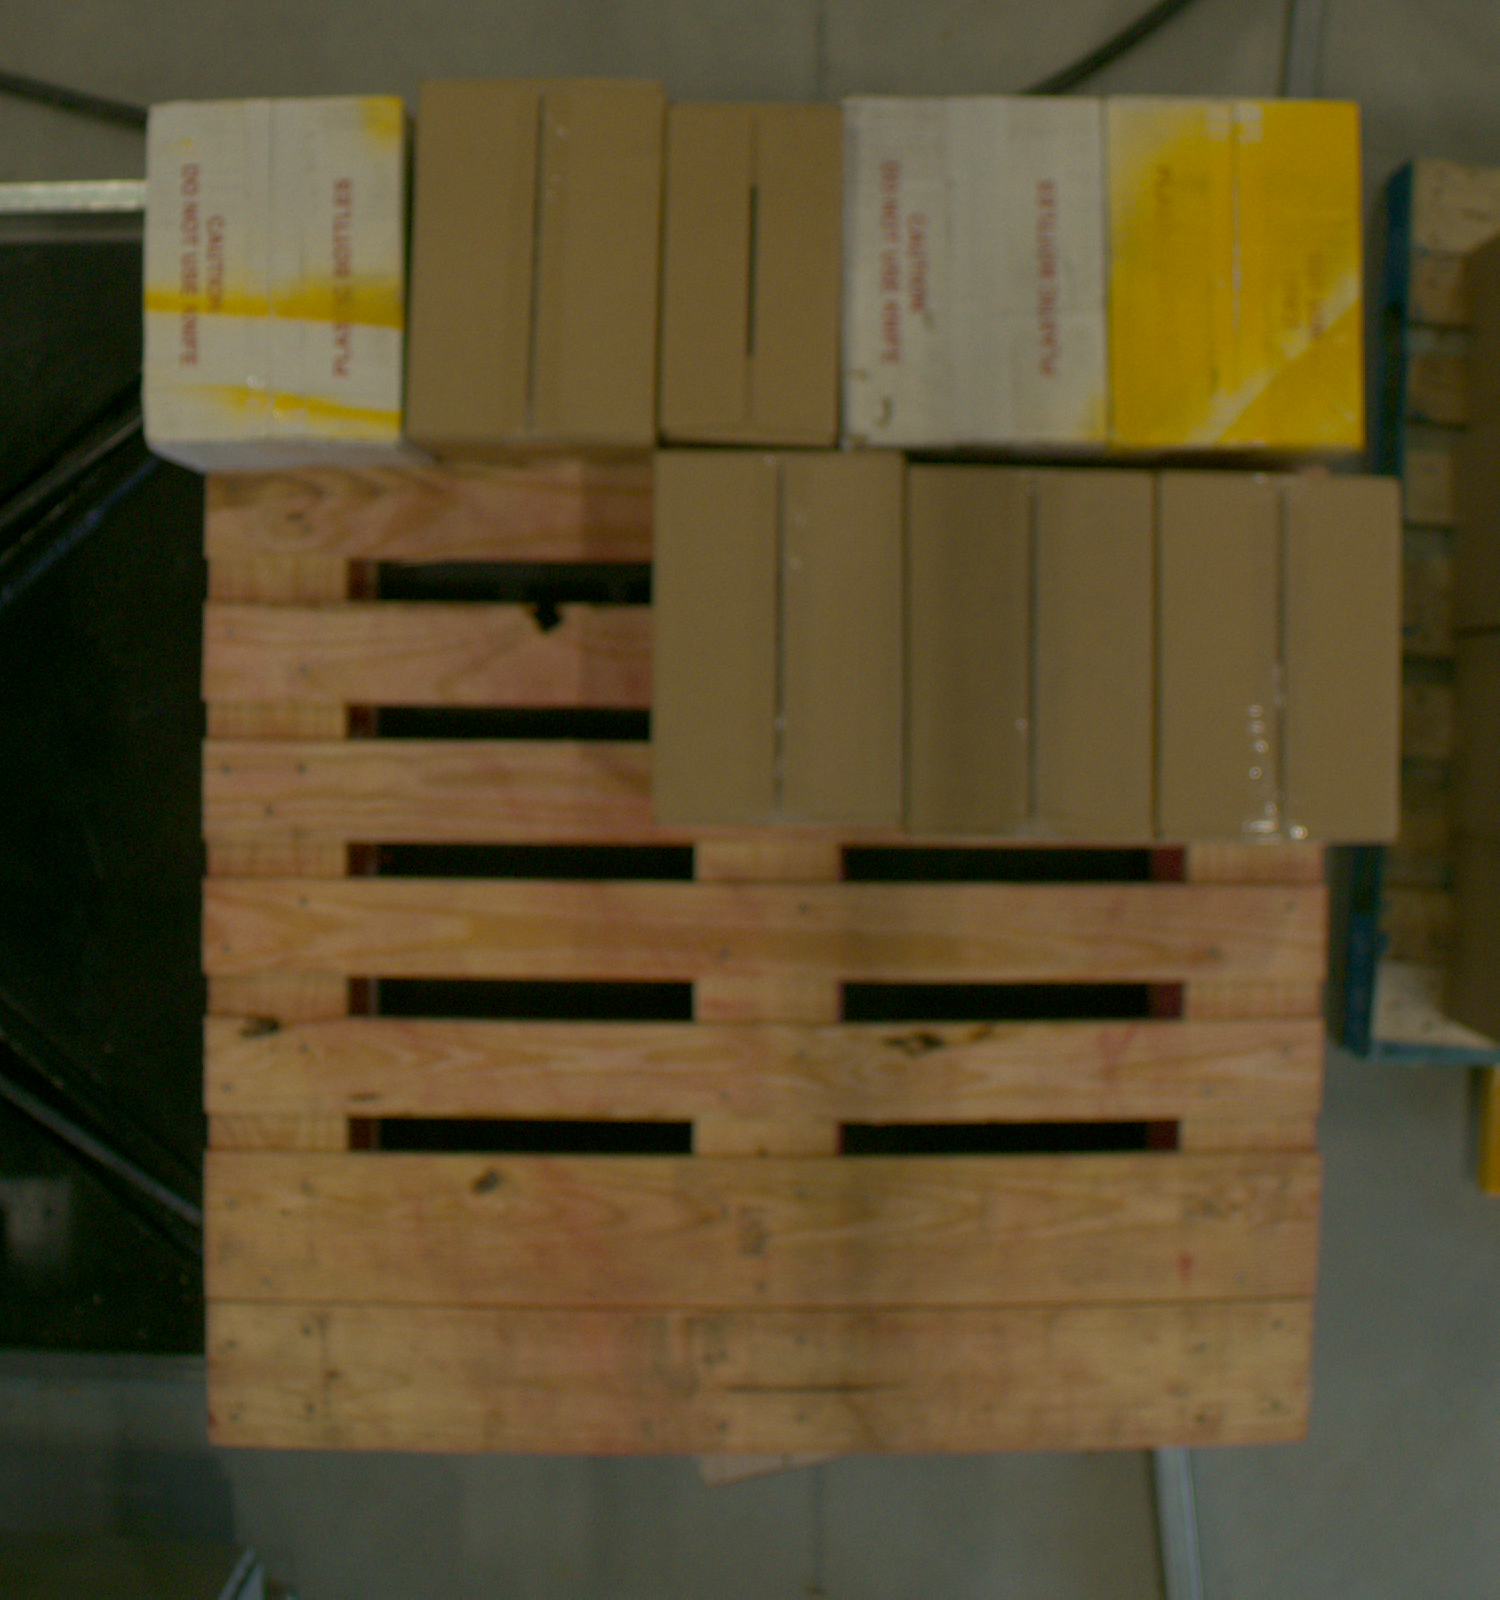box top: (651, 460, 905, 833), (407, 78, 663, 443), (144, 96, 405, 445), (909, 475, 1155, 844), (852, 97, 1109, 447), (1112, 99, 1367, 450), (1162, 475, 1398, 843), (661, 103, 844, 443)
